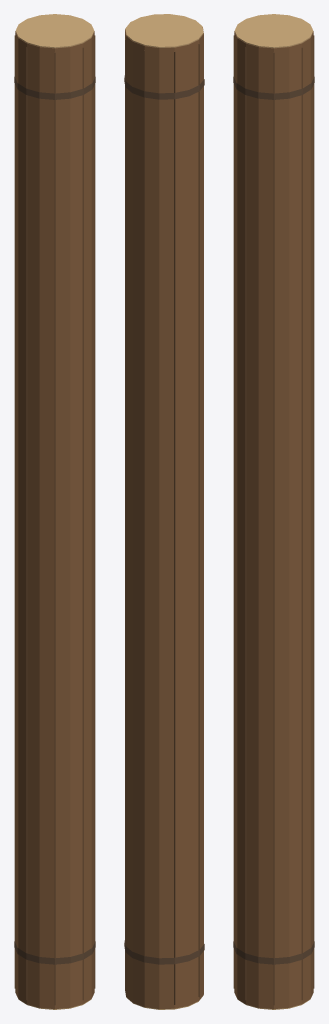
Rendered from terrain-log-926945-90.glb.
3 views of the same model, side by side, from view 1: azimuth 90°, elevation 25°; view 2: azimuth 150°, elevation 25°; view 3: azimuth 270°, elevation 25° (orthographic).
Visible parts, largest first — view 1: terrain-log-926945-90; view 2: terrain-log-926945-90; view 3: terrain-log-926945-90.
Part boxes in pixels (bbox=[...]): terrain-log-926945-90: bbox=[14, 14, 95, 1009]; terrain-log-926945-90: bbox=[124, 14, 204, 1009]; terrain-log-926945-90: bbox=[233, 14, 314, 1009].
Size of the model in its own units: 0.918 by 12.03 by 0.918.
